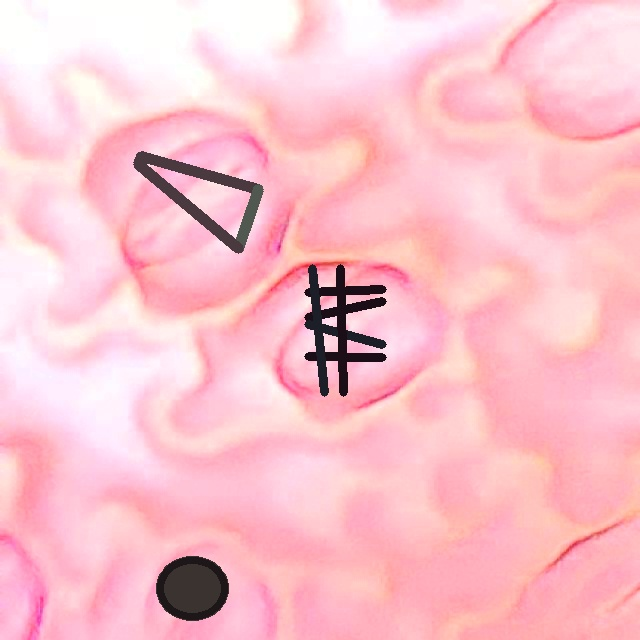close: (156, 556, 228, 620)
open: (134, 152, 263, 253), (304, 264, 386, 396)
